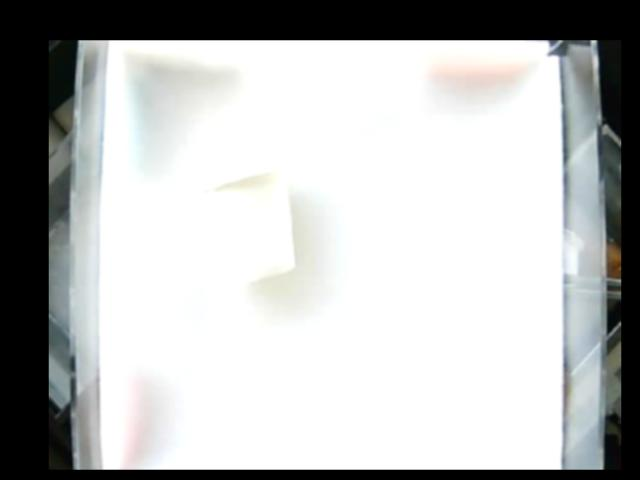Cup: (181, 166, 298, 287)
